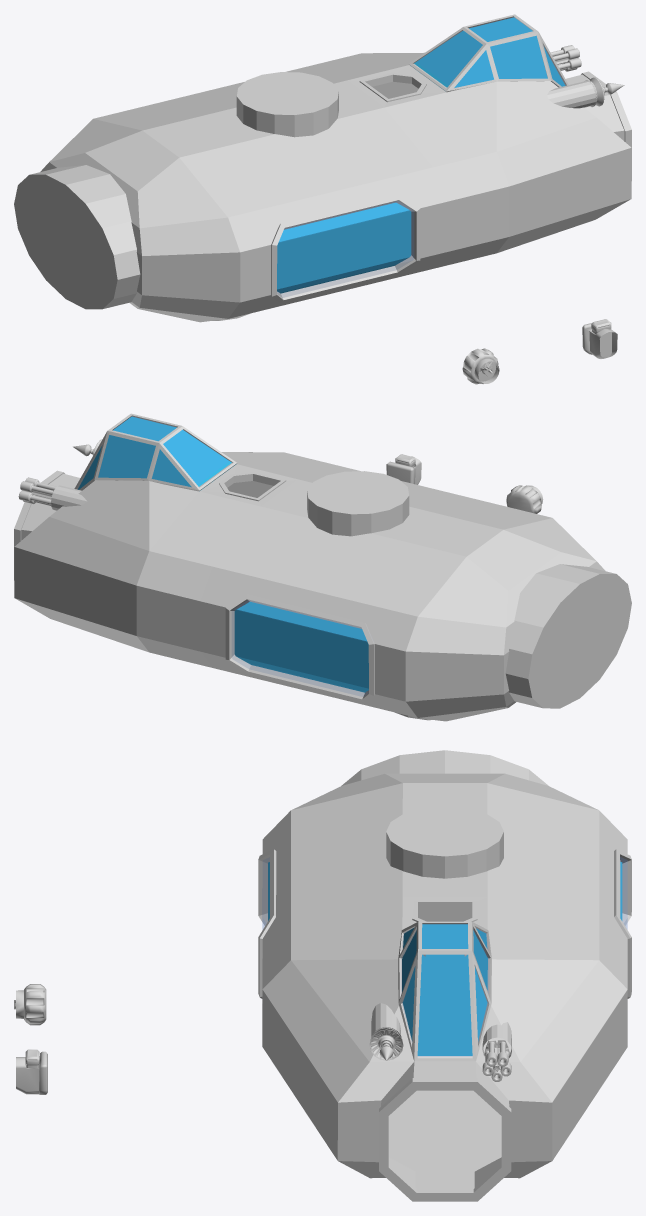
The model's file is shark_renderer.fbx.
The picture shows the model from 3 angles, top to bottom: view 1: azimuth 30°, elevation 25°; view 2: azimuth 150°, elevation 25°; view 3: azimuth 270°, elevation 25°; orthographic projection. The views are drawn at different scales.
Visible parts, largest first — view 1: Shark_external_hull, Shark_external_windows, Shark_internal_windows, Cylinder.004, Cylinder.002, Shark_frames, Shark_Window_Frames.001, Cylinder.001, Culasse_Gun_Lt, Corps, Machine_Gun_Ext, Shark_internal_hull; view 2: Shark_external_hull, Shark_external_windows, Shark_internal_windows, Cylinder.004, Cylinder.002, Shark_frames, Shark_Window_Frames.001, Corps, Machine_Gun_Ext, Culasse_Gun_Lt, Cylinder, Shark_internal_hull; view 3: Shark_external_hull, Shark_internal_hull, Shark_external_windows, Shark_frames, Shark_internal_windows, Cylinder.002, Shark_Window_Frames.001, Cylinder.004, Culasse_Gun_Lt, Machine_Gun_Ext, Laser_Gun_Ext, Corps (+2 smaller).
Part boxes in pixels (<box>): Shark_external_hull: <box>40,52,631,322</box>; Shark_external_windows: <box>277,17,565,297</box>; Shark_internal_windows: <box>277,17,565,293</box>; Cylinder.004: <box>14,165,140,309</box>; Cylinder.002: <box>236,72,338,137</box>; Shark_frames: <box>271,71,631,302</box>; Shark_Window_Frames.001: <box>409,14,568,92</box>; Cylinder.001: <box>547,80,597,108</box>; Culasse_Gun_Lt: <box>582,319,617,358</box>; Corps: <box>462,348,498,384</box>; Machine_Gun_Ext: <box>550,45,581,71</box>; Shark_internal_hull: <box>372,81,418,98</box>; Shark_external_hull: <box>14,452,605,721</box>; Shark_external_windows: <box>78,417,368,696</box>; Shark_internal_windows: <box>78,416,368,692</box>; Cylinder.004: <box>505,564,631,708</box>; Cylinder.002: <box>307,471,409,536</box>; Shark_frames: <box>14,470,374,701</box>; Shark_Window_Frames.001: <box>74,413,236,491</box>; Corps: <box>506,485,541,513</box>; Machine_Gun_Ext: <box>18,477,56,505</box>; Culasse_Gun_Lt: <box>386,456,421,484</box>; Cylinder: <box>51,485,87,510</box>; Shark_internal_hull: <box>227,481,273,497</box>; Shark_external_hull: <box>262,773,627,1178</box>; Shark_internal_hull: <box>388,1090,501,1189</box>; Shark_external_windows: <box>262,857,627,1056</box>; Shark_frames: <box>258,849,631,1201</box>; Shark_internal_windows: <box>268,861,622,1055</box>; Cylinder.002: <box>386,806,503,878</box>; Shark_Window_Frames.001: <box>398,921,491,1061</box>; Cylinder.004: <box>341,750,548,785</box>; Culasse_Gun_Lt: <box>16,1051,47,1094</box>; Machine_Gun_Ext: <box>482,1040,511,1081</box>; Laser_Gun_Ext: <box>369,1027,403,1060</box>; Corps: <box>24,984,46,1025</box>.
Bounding box in the file's own units: 10.49 × 12.04 × 4.28.
